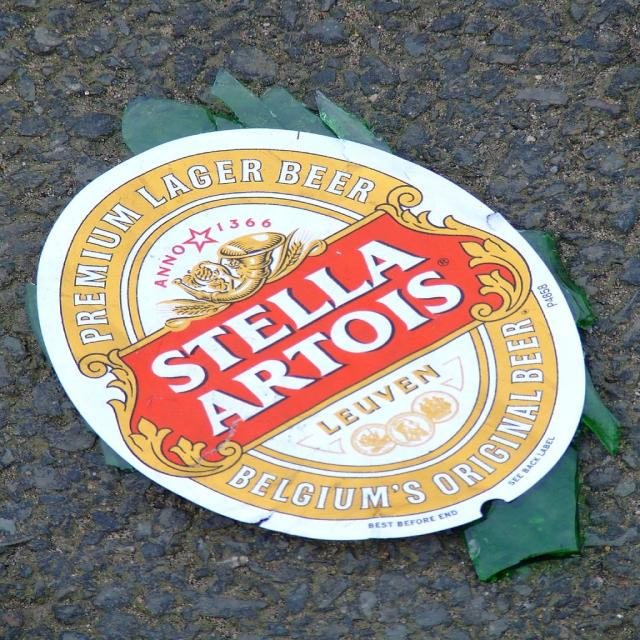stellaartois: (59, 150, 561, 524)
